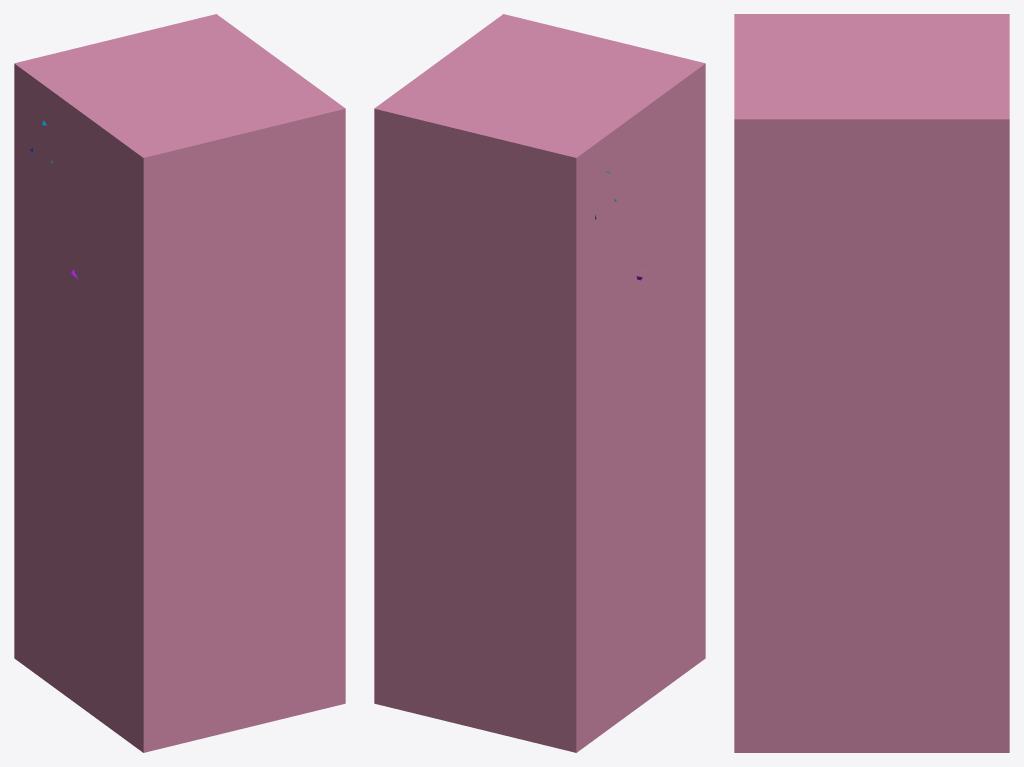
Rendered from tree_beech_forest_a.dae.
The picture shows the model from 3 angles, left to right: view 1: azimuth 30°, elevation 25°; view 2: azimuth 150°, elevation 25°; view 3: azimuth 270°, elevation 25°; orthographic projection. The views are drawn at different scales.
Visible parts, largest first — view 1: Untitled; view 2: Untitled; view 3: Untitled.
Boxes of the visible parts, x1,y1,x2,y2 form: Untitled: (14, 14, 345, 752); Untitled: (374, 14, 705, 752); Untitled: (734, 14, 1009, 752).
Bounding box in the file's own units: 6.03 × 6.52 × 16.77.
